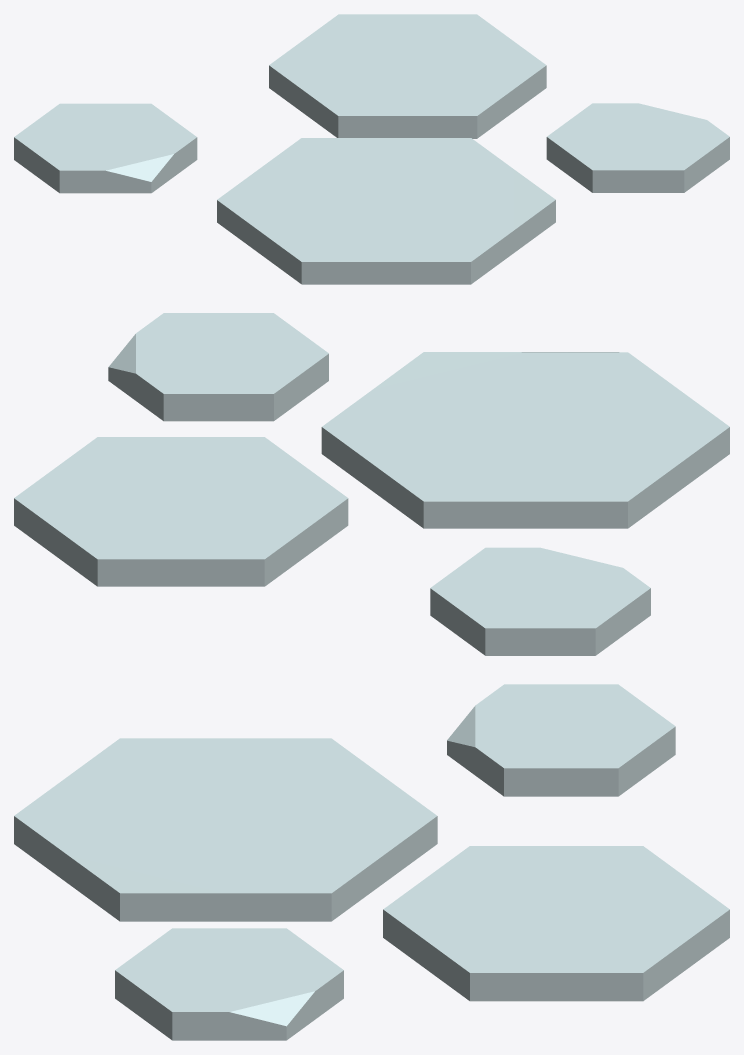
The model's file is path_stoneEnd.fbx.
3 views of the same model, one above another, from view 1: azimuth 30°, elevation 25°; view 2: azimuth 150°, elevation 25°; view 3: azimuth 270°, elevation 25° (orthographic). The views are drawn at different scales.
Parts seen in each view (by area): view 1: path_stoneEnd; view 2: path_stoneEnd; view 3: path_stoneEnd.
Part boxes in pixels (<box>): path_stoneEnd: <box>14,14,729,284</box>; path_stoneEnd: <box>14,313,729,655</box>; path_stoneEnd: <box>14,684,729,1040</box>.
Size of the model in its own units: 61.82 by 2.5 by 57.1.
